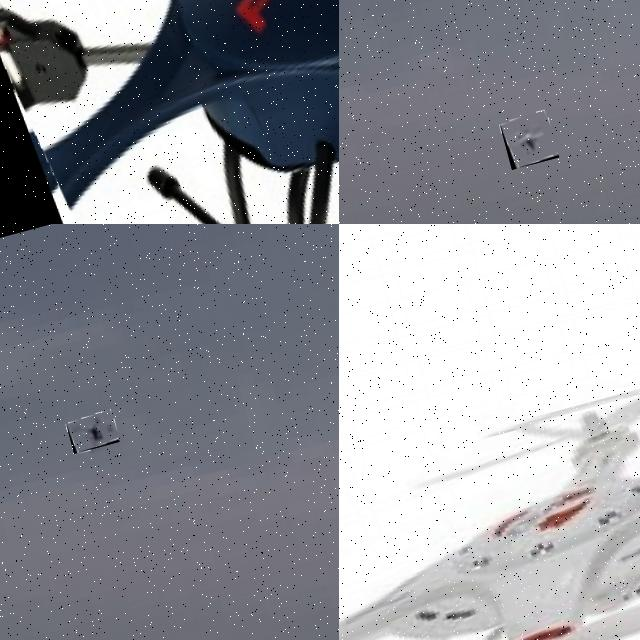drone: (339, 347, 640, 640), (0, 0, 339, 224), (499, 110, 559, 170), (66, 410, 120, 454)
